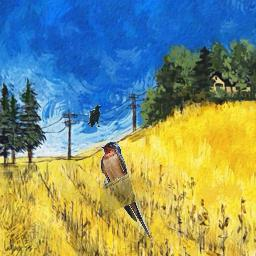Crow: (87, 105, 102, 127)
Swallow: (100, 141, 151, 238)
